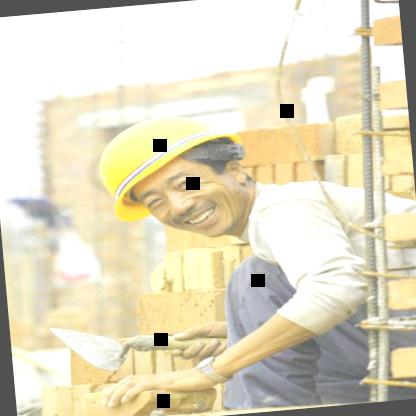helmet: (74, 96, 272, 246)
